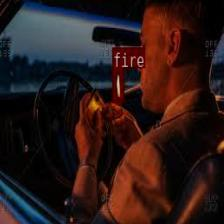fire: (112, 67, 123, 102)
